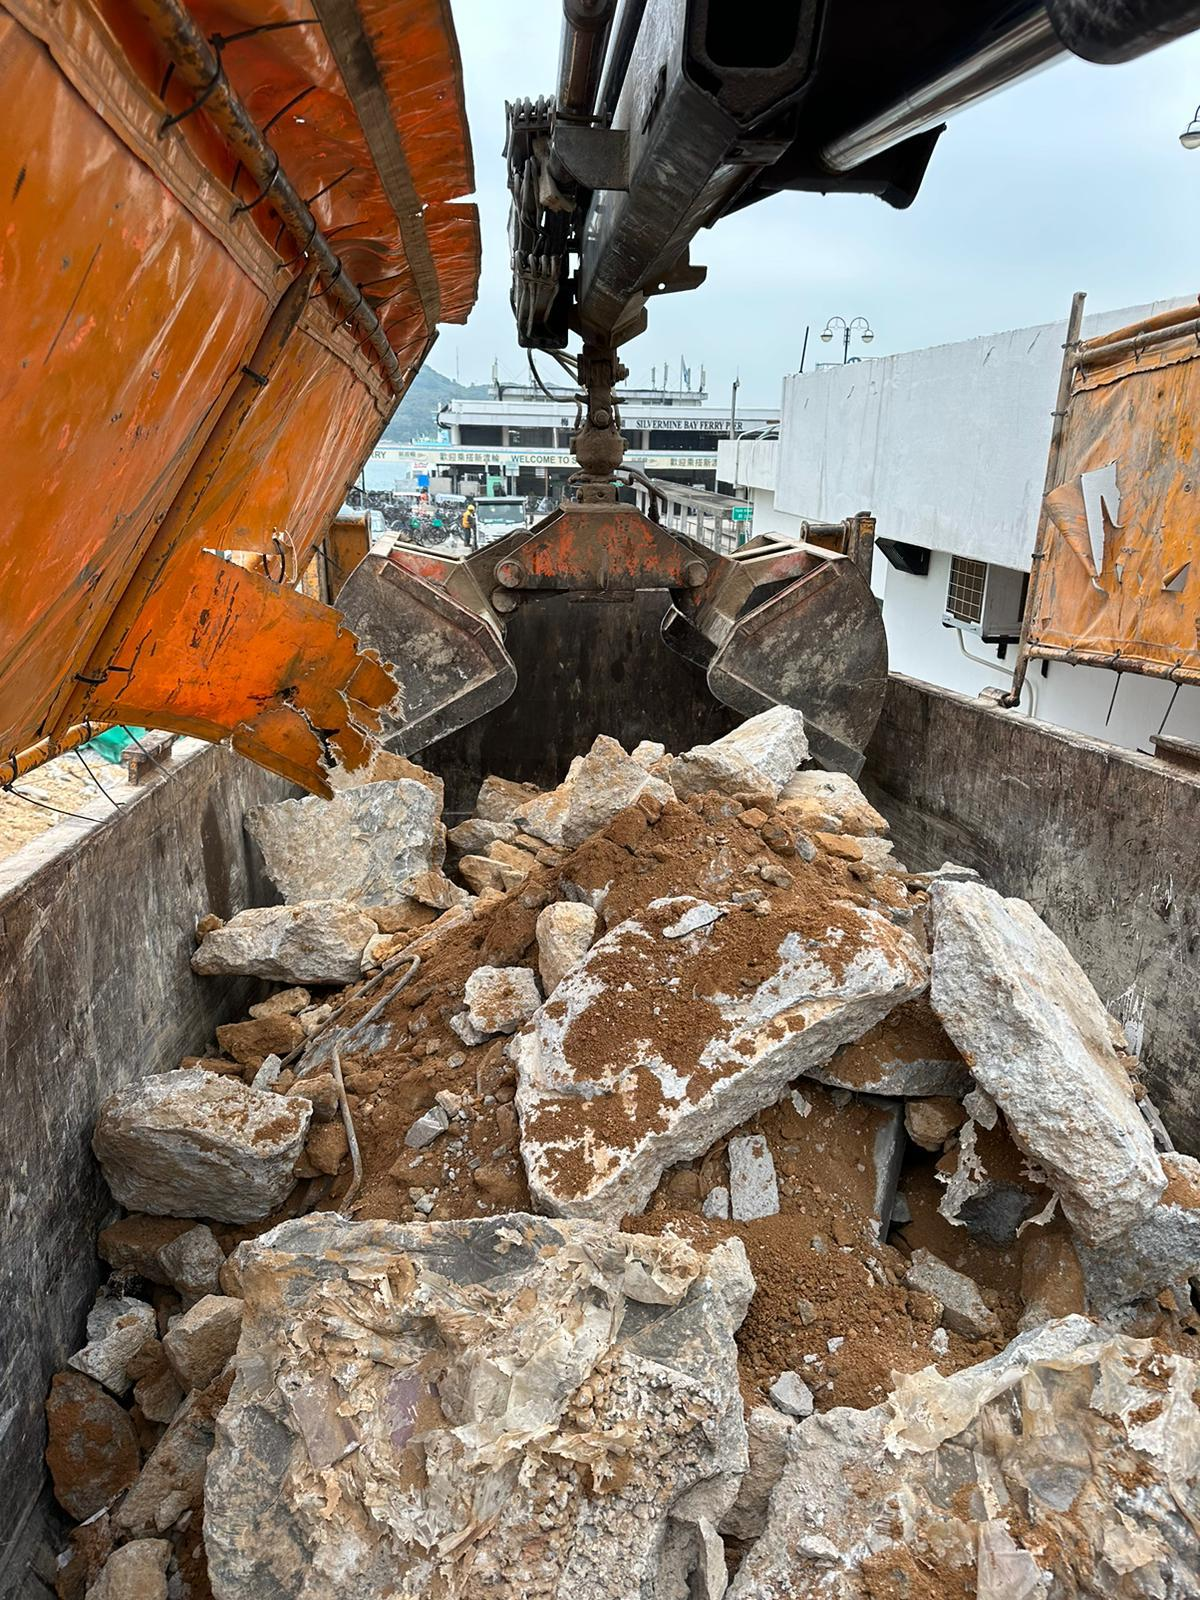dry: (55, 760, 1162, 1560)
